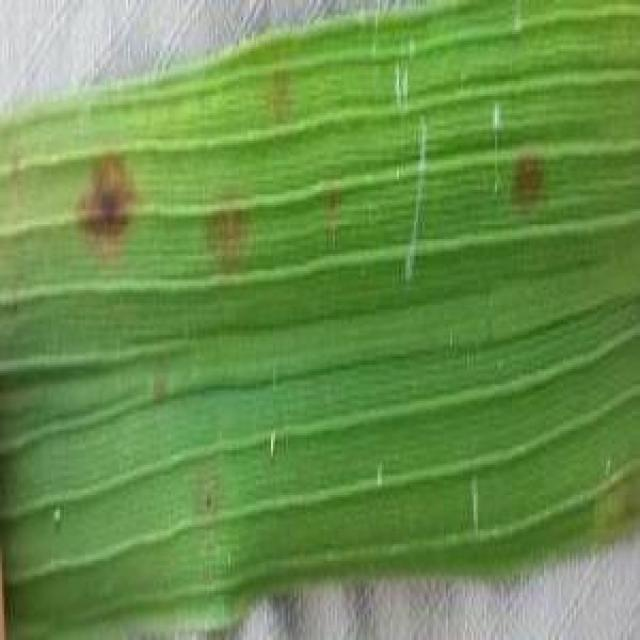Brown_Spot: (69, 148, 145, 259), (208, 190, 264, 264), (514, 150, 560, 228)
